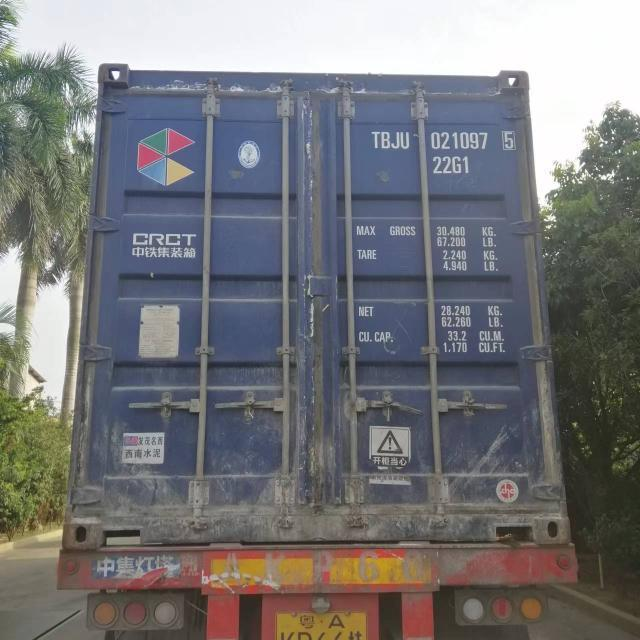ISO: (434, 154, 472, 176)
container_number: (370, 130, 520, 152)
